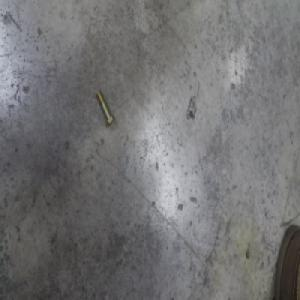Bolt: (94, 89, 114, 129)
